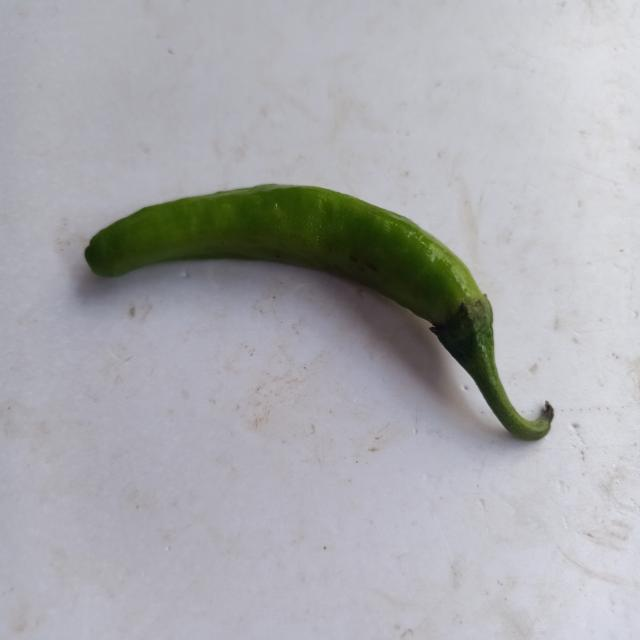Green Chilly: (84, 184, 555, 440)
